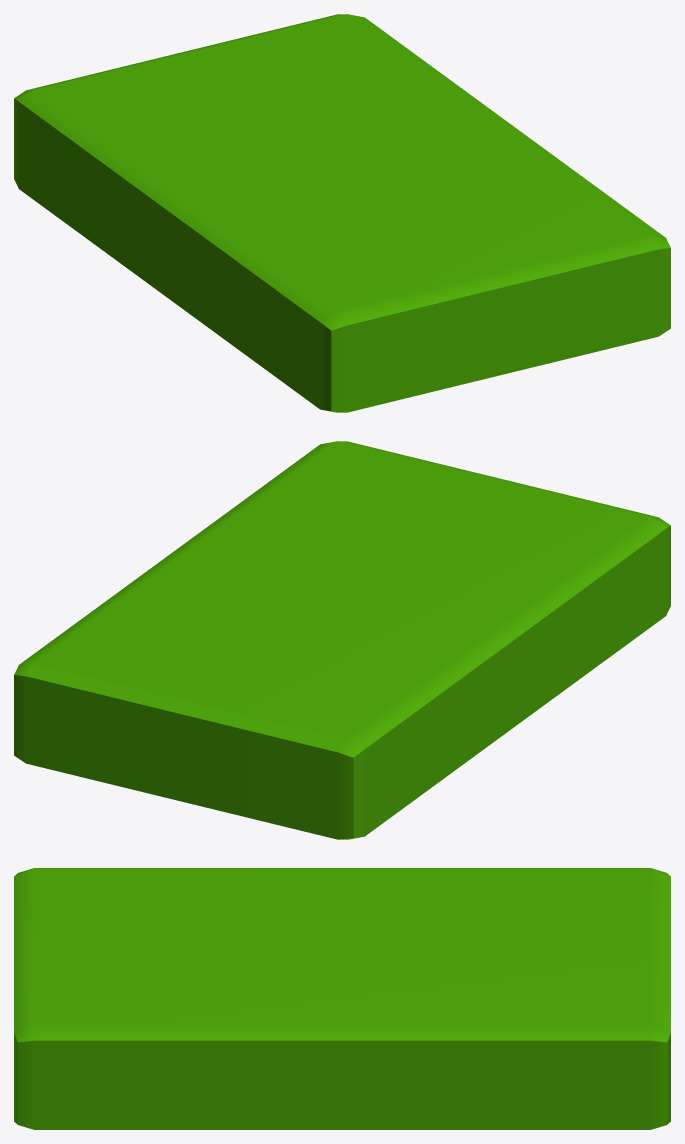
File: Sponge.fbx
3 views of the same model, one above another, from view 1: azimuth 30°, elevation 25°; view 2: azimuth 150°, elevation 25°; view 3: azimuth 270°, elevation 25° (orthographic). The views are drawn at different scales.
Visible parts, largest first — view 1: Sponge; view 2: Sponge; view 3: Sponge.
Part boxes in pixels (x1=…): Sponge: x1=14, y1=14, x2=670, y2=412; Sponge: x1=14, y1=441, x2=670, y2=839; Sponge: x1=14, y1=868, x2=670, y2=1129.
Bounding box in the file's own units: 59.43 × 16.79 × 95.56.
